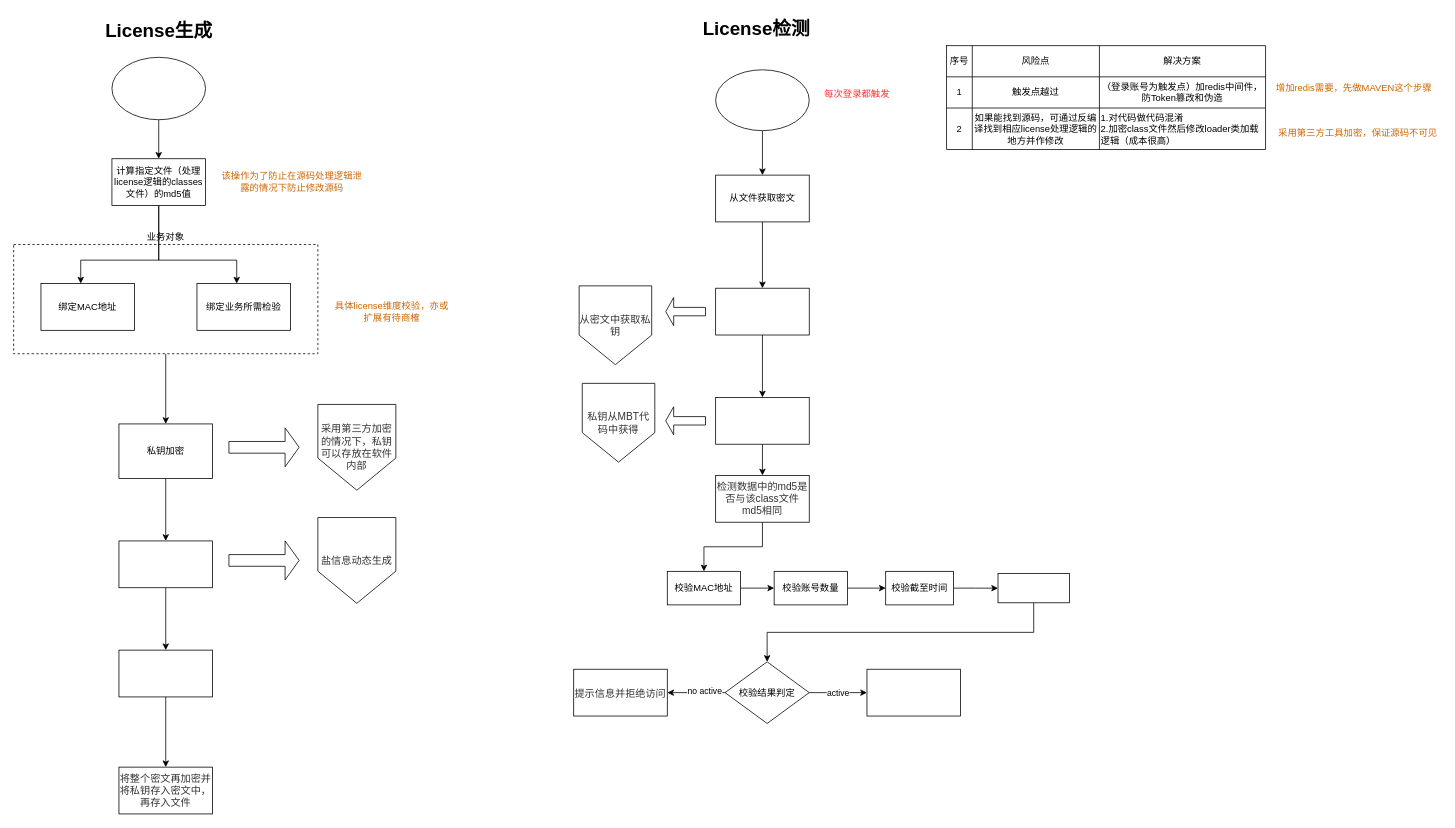
Some shapes in this 1455 by 828 pixel diagram are drawn without their labels. The shapes that lost their labels are listed below. From the top down, each one's centre as x and y in pixels, then its label:
(x=158, y=88): 密文生成工具
(x=762, y=100): 登录触发
(x=762, y=311): 解密获取license密文
(x=762, y=420): 对真实密文去盐再解密，获取数据
(x=165, y=564): 密文按照一定规则加盐
(x=1033, y=588): 其他校验信息
(x=165, y=673): 最终密文（license）
(x=913, y=692): 正常访问页面
